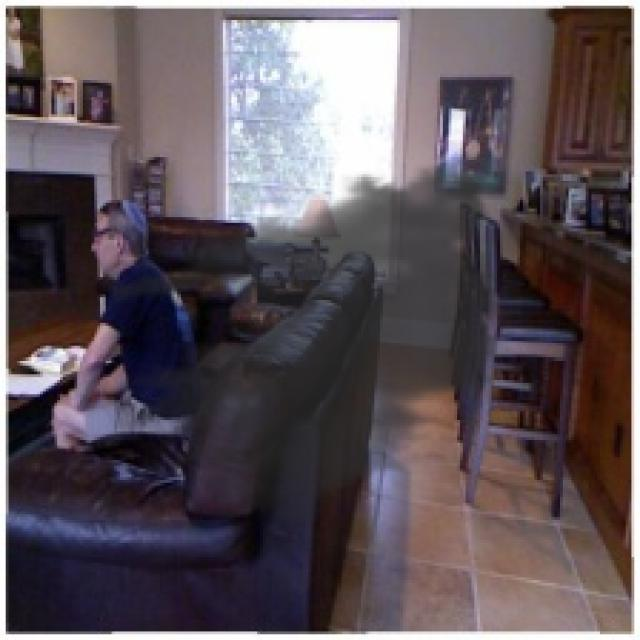smoke: (114, 146, 526, 537)
